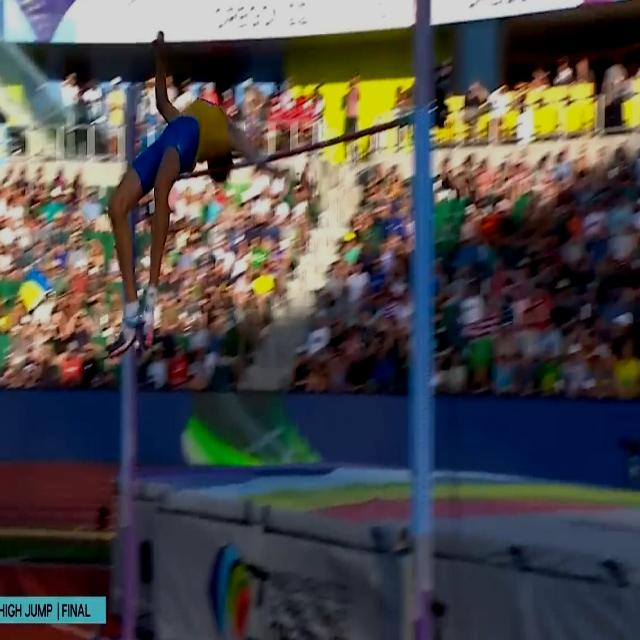jump: (107, 24, 291, 357)
